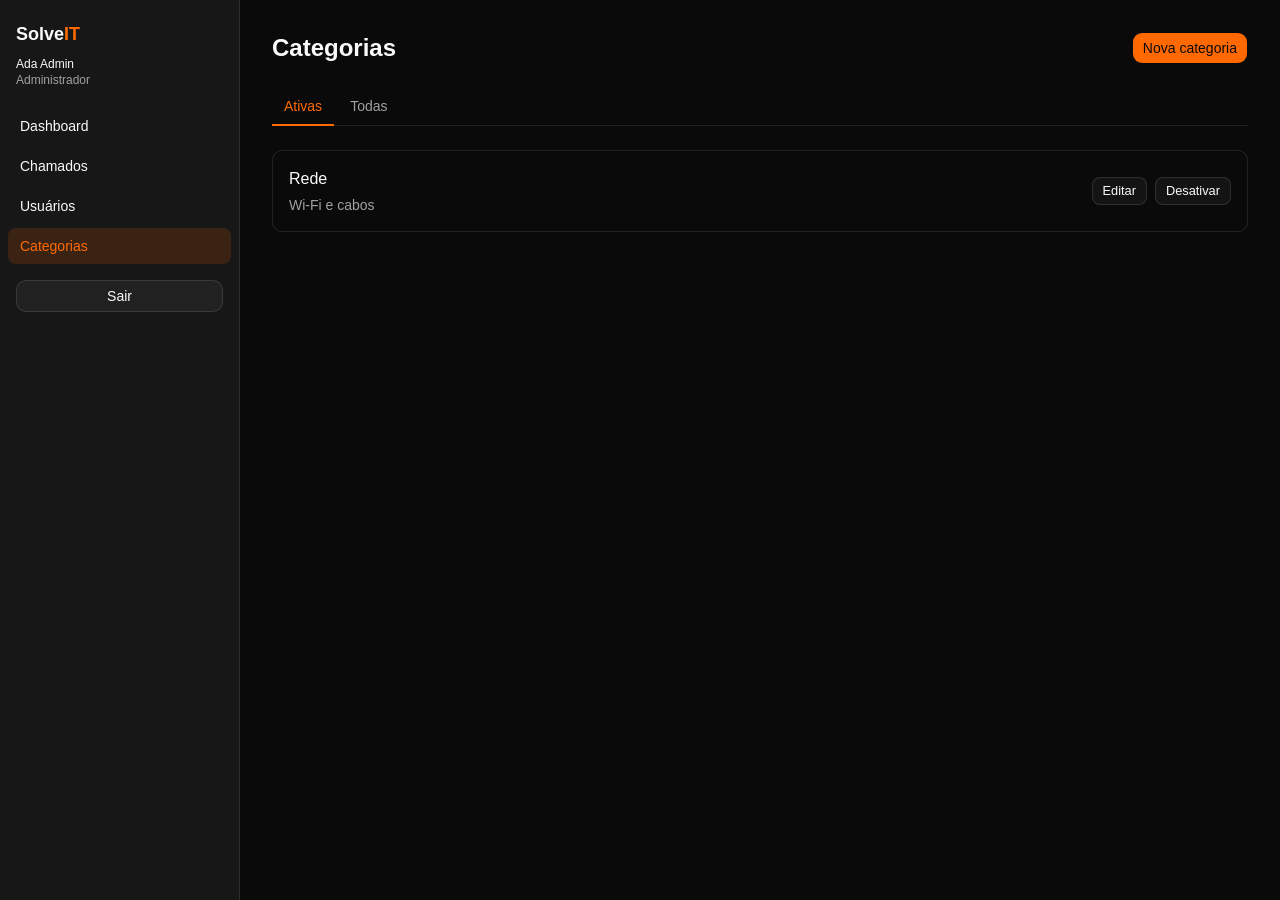
Scenario: administração de categorias › cria uma categoria
Click the button "Nova categoria" at {"x": 1190, "y": 48}, box [1132,32,1248,64]
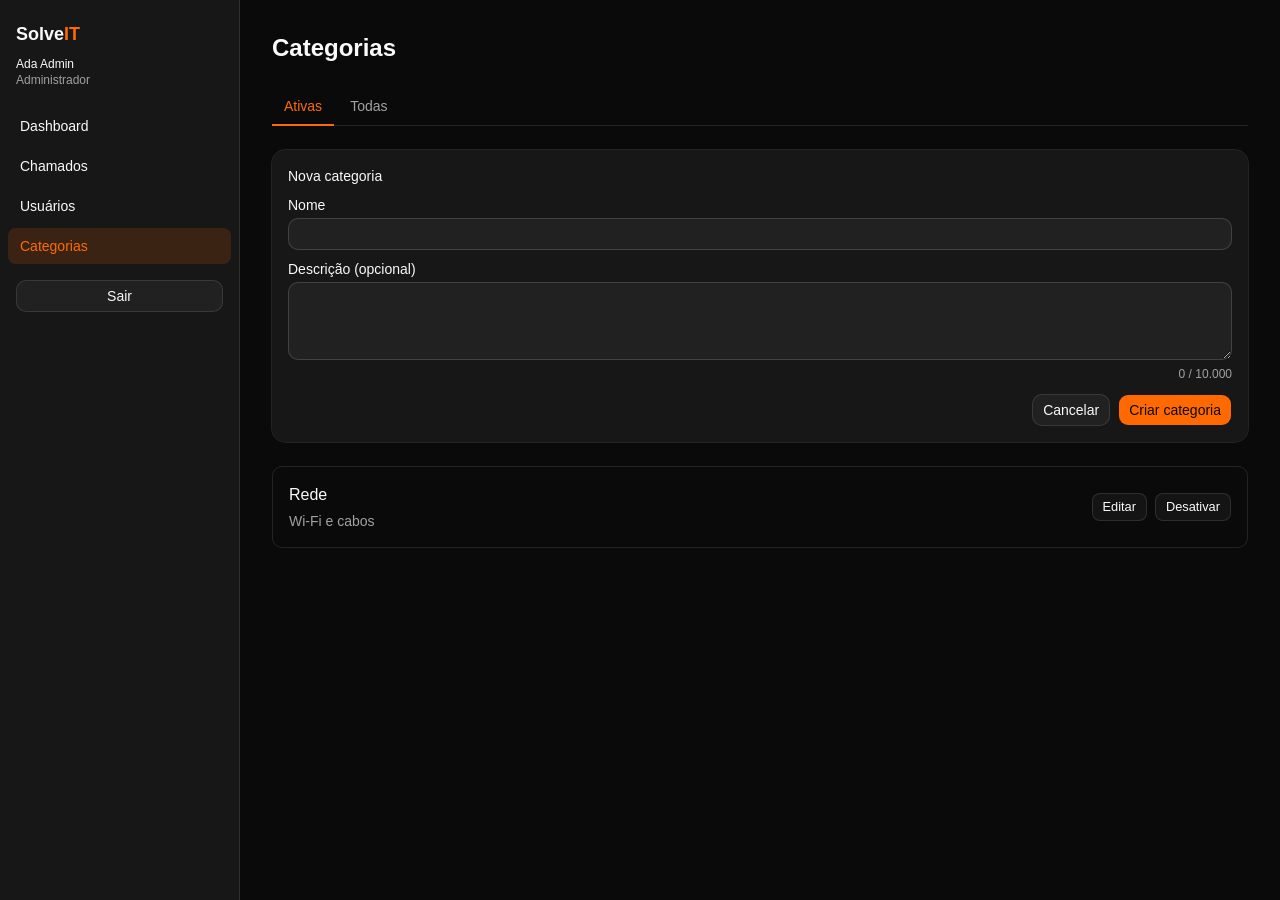
Type "  Telefonia " into the field labelled "Nome" at {"x": 760, "y": 234}, box [288,218,1232,250]
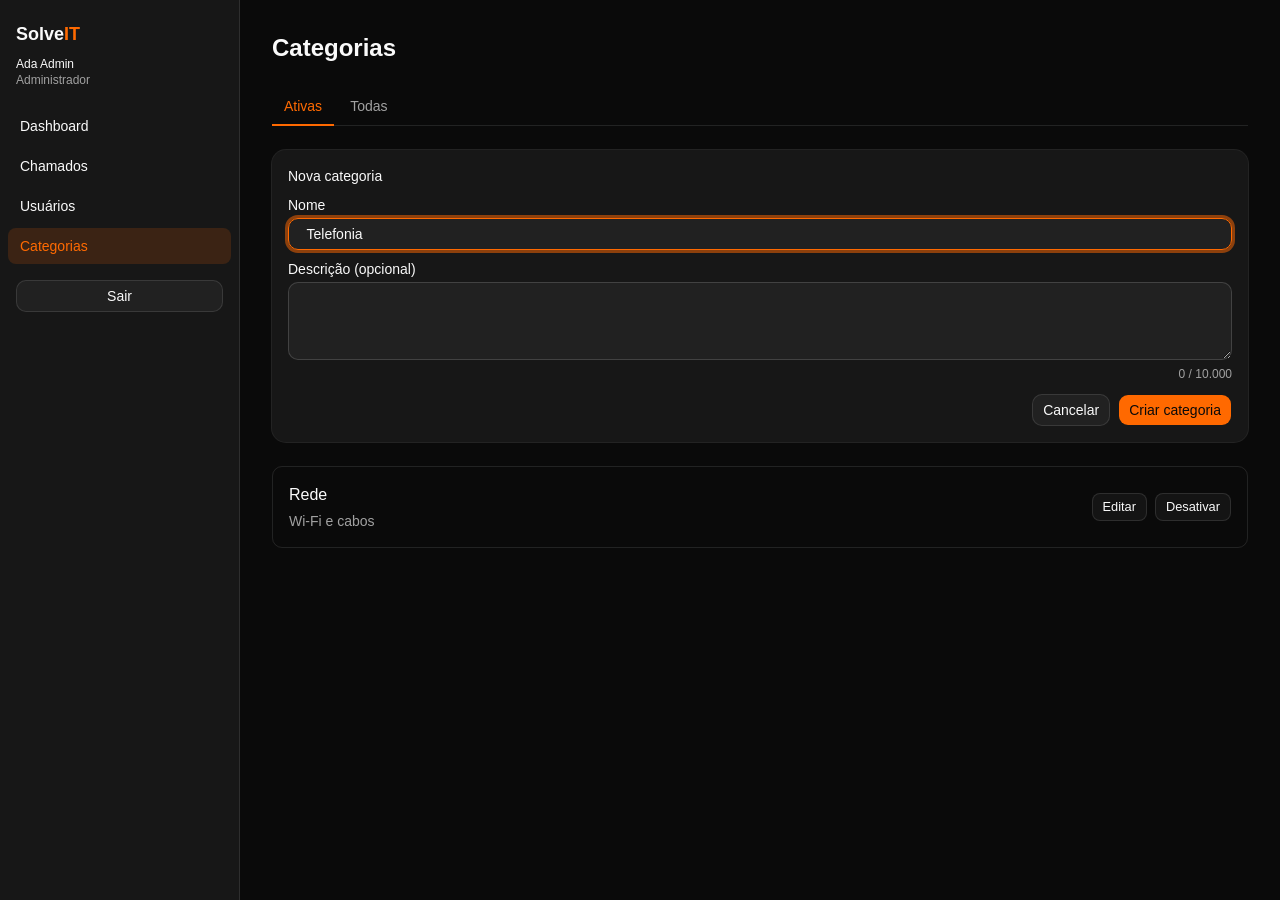
Click the button "Criar categoria" at {"x": 1175, "y": 410}, box [1118,394,1232,426]
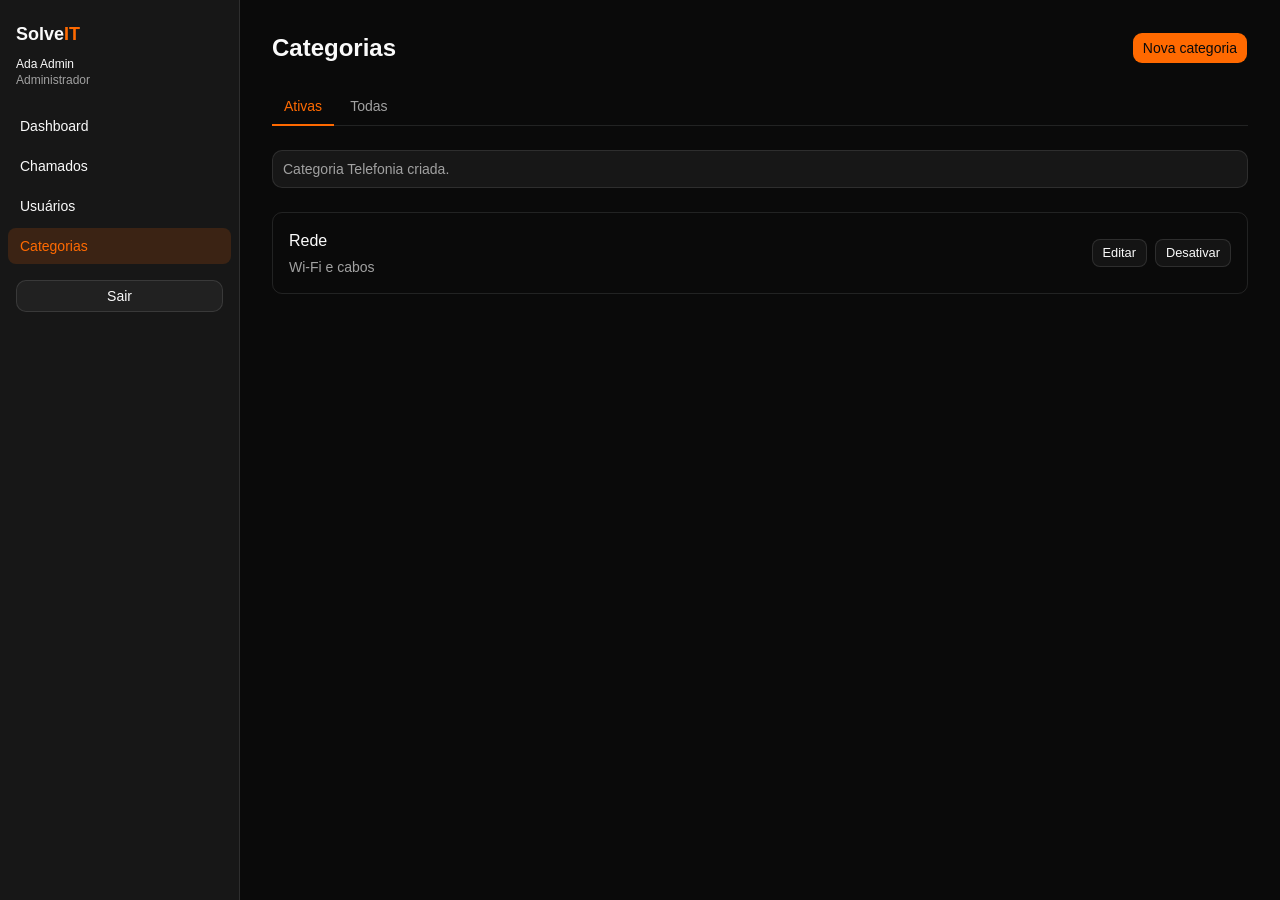
Check: the text "Categoria Telefonia criada." is shown, box [283,161,449,177]
